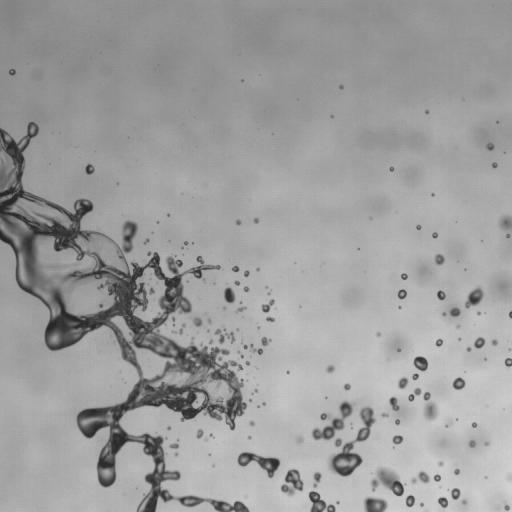droplet: (370, 466, 406, 496), (280, 468, 303, 497), (464, 285, 483, 309), (214, 325, 235, 344), (363, 496, 388, 511), (410, 470, 430, 484), (413, 356, 428, 371), (223, 286, 235, 304), (498, 215, 511, 230), (261, 298, 274, 313), (388, 396, 399, 411), (437, 496, 448, 511), (235, 300, 247, 313), (190, 314, 202, 327), (452, 377, 465, 389), (473, 336, 485, 348), (397, 376, 408, 389), (404, 494, 415, 507), (434, 253, 445, 265), (11, 130, 22, 141), (487, 150, 498, 161), (22, 160, 33, 171), (82, 190, 93, 201), (241, 215, 252, 226), (78, 218, 89, 229), (420, 226, 431, 237), (184, 257, 195, 268), (440, 299, 451, 310), (184, 323, 195, 334), (97, 324, 108, 335), (157, 324, 168, 335), (261, 325, 272, 336), (85, 329, 96, 340), (177, 337, 188, 348), (405, 380, 416, 391), (239, 388, 250, 399), (396, 389, 407, 400), (342, 391, 353, 402), (435, 407, 446, 418), (121, 410, 132, 421), (196, 410, 207, 421), (349, 410, 360, 421), (434, 411, 445, 422), (118, 416, 129, 427), (216, 417, 227, 428), (98, 426, 109, 437), (467, 428, 478, 439), (344, 430, 355, 441), (340, 431, 351, 442), (121, 441, 132, 452), (351, 442, 362, 453), (114, 450, 125, 461), (143, 455, 154, 466), (144, 460, 155, 471), (164, 460, 175, 471), (275, 466, 286, 477), (439, 466, 450, 477), (449, 476, 460, 487), (302, 480, 313, 491), (381, 488, 392, 499), (297, 489, 308, 500), (321, 492, 332, 503), (449, 307, 460, 317), (444, 417, 454, 428), (261, 336, 271, 346), (85, 163, 94, 174), (392, 435, 403, 444), (451, 488, 460, 499), (397, 289, 406, 299), (436, 290, 445, 300), (294, 435, 304, 444), (504, 356, 511, 368), (491, 215, 500, 224), (130, 235, 139, 244), (115, 237, 124, 246), (124, 252, 133, 261), (158, 260, 167, 269), (222, 262, 231, 271), (234, 271, 243, 280), (239, 276, 248, 285), (397, 279, 406, 288), (231, 285, 240, 294), (229, 300, 238, 309), (189, 307, 198, 316), (171, 308, 180, 317), (221, 340, 230, 349), (112, 344, 121, 353), (234, 369, 243, 378), (124, 383, 133, 392), (404, 384, 413, 393), (118, 393, 127, 402), (252, 394, 261, 403), (414, 394, 423, 403), (90, 399, 99, 408), (87, 400, 96, 409), (142, 404, 151, 413), (332, 409, 341, 418), (388, 409, 397, 418), (316, 420, 325, 429), (333, 428, 342, 437), (303, 431, 312, 440), (160, 440, 169, 449), (248, 459, 257, 468), (159, 480, 168, 489), (143, 482, 152, 491), (169, 498, 178, 507), (325, 365, 335, 373), (435, 338, 443, 347), (196, 428, 203, 438), (505, 207, 511, 218), (189, 505, 200, 511), (355, 505, 366, 511), (408, 505, 419, 511), (432, 505, 443, 511), (486, 142, 494, 150), (342, 383, 350, 391), (169, 443, 179, 449), (231, 265, 239, 272), (411, 372, 418, 380), (468, 440, 476, 447), (433, 474, 441, 481), (0, 66, 5, 77), (0, 148, 5, 159), (266, 316, 275, 322), (504, 502, 510, 511), (400, 273, 407, 280), (251, 388, 258, 395), (21, 149, 28, 156), (20, 174, 27, 181), (22, 184, 29, 191), (52, 197, 59, 204), (129, 215, 136, 222), (117, 219, 124, 226), (3, 242, 10, 249), (428, 255, 435, 262), (137, 260, 144, 267), (238, 265, 245, 272), (176, 266, 183, 273), (166, 271, 173, 278), (179, 276, 186, 283), (181, 289, 188, 296), (218, 292, 225, 299), (461, 294, 468, 301), (469, 303, 476, 310), (267, 309, 274, 316), (452, 315, 459, 322), (42, 317, 49, 324), (165, 317, 172, 324), (174, 321, 181, 328), (197, 325, 204, 332), (455, 329, 462, 336), (212, 340, 219, 347), (483, 340, 490, 347), (254, 341, 261, 348), (217, 342, 224, 349), (63, 345, 70, 352), (242, 349, 249, 356), (221, 354, 228, 361), (237, 357, 244, 364), (124, 361, 131, 368), (128, 364, 135, 371), (230, 365, 237, 372), (405, 373, 412, 380), (132, 375, 139, 382), (428, 395, 435, 402), (335, 398, 342, 405), (384, 402, 391, 409), (159, 403, 166, 410), (175, 410, 182, 417), (371, 411, 378, 418), (233, 415, 240, 422), (186, 417, 193, 424), (342, 417, 349, 424), (324, 419, 331, 426), (358, 421, 365, 428), (369, 423, 376, 430), (149, 430, 156, 437), (77, 432, 84, 439), (328, 436, 335, 443), (318, 437, 325, 444), (475, 440, 482, 447), (246, 446, 253, 453), (261, 451, 268, 458), (91, 456, 98, 463), (352, 467, 359, 474), (435, 467, 442, 474), (260, 469, 267, 476), (427, 471, 434, 478), (333, 472, 340, 479), (346, 473, 353, 480), (415, 478, 422, 485), (95, 483, 102, 490), (180, 489, 187, 496), (402, 489, 409, 496), (194, 490, 201, 497), (280, 491, 287, 498), (444, 492, 451, 499), (215, 494, 222, 501), (155, 496, 162, 503), (207, 506, 216, 511), (443, 506, 452, 511), (142, 238, 149, 244), (491, 339, 498, 345), (248, 420, 255, 426), (454, 468, 460, 475), (506, 473, 511, 481), (9, 69, 15, 75), (491, 162, 497, 168), (253, 217, 259, 223), (235, 219, 241, 225), (432, 232, 438, 238), (243, 286, 249, 292), (244, 270, 249, 277), (381, 412, 388, 417), (416, 224, 421, 230), (234, 280, 240, 285), (207, 318, 212, 324), (395, 419, 400, 425), (471, 422, 477, 427), (437, 461, 443, 466), (461, 499, 466, 505), (507, 227, 511, 234), (334, 507, 341, 511), (383, 507, 390, 511), (338, 84, 343, 89), (389, 166, 394, 171), (455, 324, 460, 329), (376, 332, 381, 337), (466, 346, 471, 351), (484, 441, 489, 446), (28, 116, 33, 121), (37, 123, 42, 128), (3, 126, 8, 131), (37, 128, 42, 133), (13, 137, 18, 142), (29, 137, 34, 142), (483, 139, 488, 144), (484, 148, 489, 153), (490, 157, 495, 162), (81, 163, 86, 168), (80, 167, 85, 172), (87, 173, 92, 178), (77, 194, 82, 199), (91, 201, 96, 206), (91, 206, 96, 211), (70, 209, 75, 214), (237, 215, 242, 220), (248, 217, 253, 222), (258, 217, 263, 222), (240, 218, 245, 223), (252, 222, 257, 227), (92, 226, 97, 231), (99, 228, 104, 233), (439, 250, 444, 255), (148, 253, 153, 258), (442, 253, 447, 258), (443, 257, 448, 262), (203, 260, 208, 265), (212, 260, 217, 265), (195, 261, 200, 266), (440, 262, 445, 267), (434, 263, 439, 268), (211, 268, 216, 273), (188, 272, 193, 277), (10, 273, 15, 278), (12, 280, 17, 285), (238, 283, 243, 288), (247, 283, 252, 288), (15, 285, 20, 290), (248, 286, 253, 291), (24, 291, 29, 296), (433, 295, 438, 300), (33, 296, 38, 301), (398, 298, 403, 303), (263, 299, 268, 304), (39, 302, 44, 307), (269, 304, 274, 309), (190, 305, 195, 310), (43, 306, 48, 311), (257, 306, 262, 311), (445, 310, 450, 315), (265, 311, 270, 316), (504, 313, 509, 318), (201, 319, 206, 324), (174, 325, 179, 330), (193, 325, 198, 330), (182, 327, 187, 332), (210, 327, 215, 332), (225, 328, 230, 333), (371, 329, 376, 334), (233, 331, 238, 336), (480, 333, 485, 338), (214, 334, 219, 339), (111, 335, 116, 340), (471, 336, 476, 341), (496, 337, 501, 342), (234, 338, 239, 343), (202, 340, 207, 345), (267, 341, 272, 346), (439, 344, 444, 349), (481, 344, 486, 349), (43, 345, 48, 350), (261, 345, 266, 350), (470, 345, 475, 350), (240, 348, 245, 353), (419, 352, 424, 357), (243, 355, 248, 360), (409, 356, 414, 361), (425, 356, 430, 361), (327, 360, 332, 365), (240, 361, 245, 366), (332, 362, 337, 367), (227, 364, 232, 369), (415, 368, 420, 373), (331, 369, 336, 374), (326, 372, 331, 377), (453, 373, 458, 378), (460, 374, 465, 379), (449, 377, 454, 382), (343, 378, 348, 383), (393, 380, 398, 385), (349, 385, 354, 390), (339, 386, 344, 391), (455, 388, 460, 393), (385, 395, 390, 400), (241, 397, 246, 402), (395, 400, 400, 405), (369, 403, 374, 408), (242, 408, 247, 413), (319, 408, 324, 413), (322, 408, 327, 413), (211, 417, 216, 422), (252, 417, 257, 422), (246, 424, 251, 429), (309, 425, 314, 430), (192, 430, 197, 435), (395, 430, 400, 435), (202, 431, 207, 436), (160, 433, 165, 438), (352, 433, 357, 438), (367, 434, 372, 439), (470, 435, 475, 440), (483, 436, 488, 441), (171, 438, 176, 443), (464, 438, 469, 443), (340, 440, 345, 445), (400, 440, 405, 445), (488, 441, 493, 446), (139, 442, 144, 447), (394, 443, 399, 448), (467, 446, 472, 451), (171, 447, 176, 452), (358, 452, 363, 457), (233, 453, 238, 458), (439, 456, 444, 461), (236, 464, 241, 469), (292, 464, 297, 469), (456, 464, 461, 469), (313, 467, 318, 472), (449, 467, 454, 472), (179, 471, 184, 476), (413, 472, 418, 477), (140, 473, 145, 478), (93, 476, 98, 481), (319, 476, 324, 481), (280, 479, 285, 484), (399, 479, 404, 484), (434, 480, 439, 485), (109, 483, 114, 488), (367, 483, 372, 488), (454, 483, 459, 488), (449, 484, 454, 489), (313, 487, 318, 492), (178, 492, 183, 497), (319, 495, 324, 500), (457, 495, 462, 500), (465, 498, 470, 503), (413, 499, 418, 504), (134, 500, 139, 505), (175, 500, 180, 505), (229, 500, 234, 505), (307, 500, 312, 505), (324, 500, 329, 505), (243, 501, 248, 506), (333, 503, 338, 508), (436, 503, 441, 508), (0, 239, 3, 246), (425, 109, 429, 114), (430, 192, 435, 196), (267, 290, 271, 295), (222, 306, 227, 310), (476, 311, 481, 315), (206, 327, 210, 332), (397, 347, 401, 352), (245, 361, 250, 365), (174, 452, 178, 457), (419, 502, 423, 507), (166, 213, 170, 217), (184, 241, 188, 245), (255, 267, 259, 271), (442, 312, 446, 316), (457, 337, 461, 341), (483, 357, 487, 361), (248, 398, 252, 402), (167, 426, 171, 430), (247, 435, 251, 439), (495, 506, 500, 509), (508, 503, 511, 508), (241, 78, 244, 82), (330, 114, 333, 118), (369, 216, 372, 220), (506, 234, 510, 237), (398, 305, 401, 309), (286, 370, 289, 374), (262, 402, 266, 405), (212, 463, 215, 467), (484, 475, 487, 479), (116, 182, 119, 185), (156, 220, 159, 223), (180, 246, 183, 249), (265, 285, 268, 288), (257, 326, 260, 329), (236, 328, 239, 331), (508, 348, 511, 351), (386, 358, 389, 361), (257, 405, 260, 408), (455, 418, 458, 421), (244, 495, 247, 498), (8, 66, 11, 69), (12, 66, 15, 69), (5, 70, 8, 73), (13, 73, 16, 76), (9, 74, 12, 77), (238, 76, 241, 79), (243, 77, 246, 80), (237, 79, 240, 82), (242, 80, 245, 83), (336, 83, 339, 86), (343, 85, 346, 88), (338, 88, 341, 91), (422, 108, 425, 111), (428, 109, 431, 112), (422, 111, 425, 114), (332, 112, 335, 115), (425, 113, 428, 116), (327, 115, 330, 118), (498, 119, 501, 122), (34, 120, 37, 123), (492, 120, 495, 123), (489, 149, 492, 152), (88, 161, 91, 164), (489, 164, 492, 167), (493, 167, 496, 170), (386, 168, 389, 171), (393, 168, 396, 171), (432, 190, 435, 193), (428, 191, 431, 194), (429, 195, 432, 198), (432, 195, 435, 198), (163, 213, 166, 216), (169, 213, 172, 216), (232, 220, 235, 223), (158, 221, 161, 224), (416, 221, 419, 224), (155, 223, 158, 226), (413, 223, 416, 226), (236, 224, 239, 227), (420, 226, 423, 229), (413, 227, 416, 230), (416, 229, 419, 232), (430, 230, 433, 233), (436, 231, 439, 234), (104, 232, 107, 235), (429, 235, 432, 238), (436, 235, 439, 238), (480, 236, 483, 239), (432, 237, 435, 240), (506, 237, 509, 240), (142, 238, 145, 241), (148, 238, 151, 241), (193, 240, 196, 243), (188, 241, 191, 244), (181, 243, 184, 246), (356, 244, 359, 247), (359, 247, 362, 250), (356, 249, 359, 252), (197, 252, 200, 255), (194, 254, 197, 257), (177, 256, 180, 259), (173, 257, 176, 260), (180, 258, 183, 261), (230, 264, 233, 267), (255, 264, 258, 267), (259, 267, 262, 270), (460, 267, 463, 270), (218, 268, 221, 271), (403, 270, 406, 273), (247, 274, 250, 277), (406, 276, 409, 279), (198, 277, 201, 280), (399, 277, 402, 280), (402, 279, 405, 282), (399, 286, 402, 289), (439, 287, 442, 290), (266, 288, 269, 291), (404, 288, 407, 291), (395, 289, 398, 292), (244, 291, 247, 294), (403, 296, 406, 299), (442, 298, 445, 301), (299, 302, 302, 305), (395, 304, 398, 307), (506, 310, 509, 313), (480, 311, 483, 314), (439, 313, 442, 316), (476, 314, 479, 317), (210, 317, 213, 320), (173, 320, 176, 323), (267, 320, 270, 323), (235, 324, 238, 327), (253, 325, 256, 328), (459, 325, 462, 328), (380, 332, 383, 335), (223, 335, 226, 338), (435, 336, 438, 339), (440, 336, 443, 339), (271, 338, 274, 341), (460, 338, 463, 341), (455, 339, 458, 342), (232, 340, 235, 343), (432, 340, 435, 343), (246, 344, 249, 347), (398, 345, 401, 348), (435, 345, 438, 348), (393, 348, 396, 351), (463, 348, 466, 351), (254, 350, 257, 353), (399, 350, 402, 353), (396, 351, 399, 354), (467, 351, 470, 354), (260, 353, 263, 356), (486, 357, 489, 360), (481, 359, 484, 362), (502, 363, 505, 366), (286, 367, 289, 370), (283, 369, 286, 372), (288, 371, 291, 374), (416, 377, 419, 380), (242, 380, 245, 383), (255, 385, 258, 388), (257, 388, 260, 391), (251, 389, 254, 392), (345, 389, 348, 392), (428, 390, 431, 393), (321, 395, 324, 398), (326, 397, 329, 400), (405, 397, 408, 400), (251, 398, 254, 401), (265, 402, 268, 405), (259, 403, 262, 406), (256, 407, 259, 410), (317, 415, 320, 418), (383, 416, 386, 419), (398, 417, 401, 420), (452, 418, 455, 421), (471, 419, 474, 422), (391, 420, 394, 423), (399, 420, 402, 423), (393, 423, 396, 426), (441, 423, 444, 426), (468, 423, 471, 426), (164, 424, 167, 427), (170, 425, 173, 428), (475, 425, 478, 428), (444, 427, 447, 430), (168, 429, 171, 432), (212, 432, 215, 435), (248, 432, 251, 435), (244, 435, 247, 438), (209, 436, 212, 439), (250, 437, 253, 440), (176, 441, 179, 444), (391, 442, 394, 445), (484, 445, 487, 448), (207, 450, 210, 453), (210, 452, 213, 455), (177, 453, 180, 456), (208, 455, 211, 458), (214, 464, 217, 467), (484, 472, 487, 475), (439, 473, 442, 476), (456, 473, 459, 476), (487, 475, 490, 478), (481, 476, 484, 479), (439, 478, 442, 481), (336, 497, 339, 500), (403, 502, 406, 505), (423, 502, 426, 505), (405, 505, 408, 508), (508, 508, 511, 511), (496, 120, 498, 123), (151, 231, 153, 234), (191, 241, 193, 244), (186, 280, 189, 282), (213, 282, 215, 285), (325, 396, 327, 399), (177, 438, 179, 441), (392, 446, 394, 449), (208, 453, 211, 455), (439, 486, 441, 489), (509, 234, 511, 237), (509, 345, 511, 348), (509, 365, 511, 368), (503, 509, 506, 511), (503, 151, 505, 153), (168, 240, 170, 242), (357, 248, 359, 250), (464, 268, 466, 270), (299, 305, 301, 307), (274, 307, 276, 309), (121, 378, 123, 380), (502, 408, 504, 410), (447, 489, 449, 491)
ligament: (326, 406, 376, 477), (311, 400, 355, 440), (236, 451, 280, 478), (422, 391, 439, 421), (171, 322, 186, 335), (408, 387, 421, 401), (249, 342, 263, 354), (203, 433, 214, 441), (240, 337, 247, 349), (171, 316, 175, 326), (508, 310, 511, 318), (350, 422, 353, 429), (422, 509, 428, 511), (255, 366, 257, 369), (124, 381, 127, 383), (246, 379, 247, 383)
